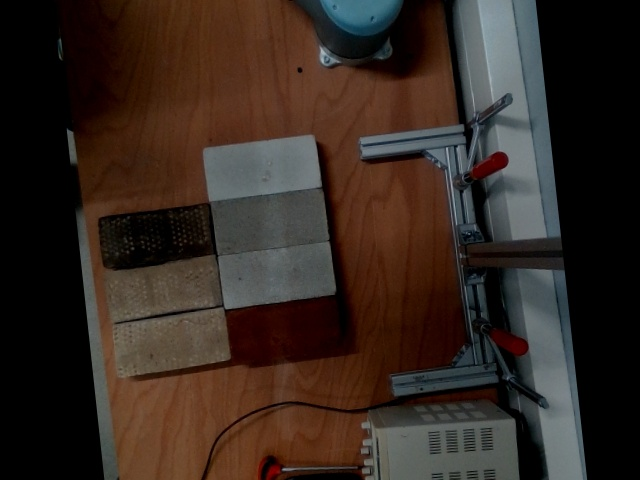brick: (218, 243, 334, 308), (113, 309, 229, 374), (212, 190, 326, 253), (230, 299, 339, 364), (100, 205, 211, 267), (106, 258, 218, 318), (206, 138, 315, 197)
